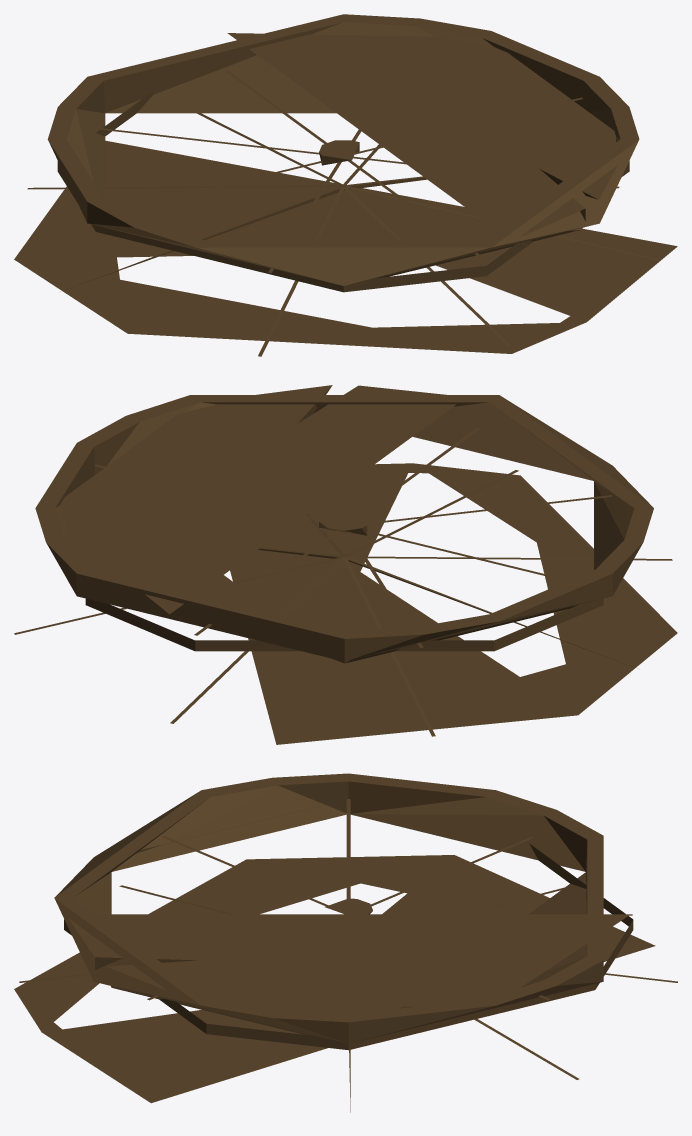
The model's file is carousel.lod2.glb.
3 views of the same model, one above another, from view 1: azimuth 30°, elevation 25°; view 2: azimuth 150°, elevation 25°; view 3: azimuth 270°, elevation 25° (orthographic). The views are drawn at different scales.
Visible parts, largest first — view 1: carousel_002_02 - Default_0; view 2: carousel_002_02 - Default_0; view 3: carousel_002_02 - Default_0.
Boxes of the visible parts, left/top/right/bottom form: carousel_002_02 - Default_0: left=14, top=14, right=677, bottom=356; carousel_002_02 - Default_0: left=14, top=385, right=677, bottom=744; carousel_002_02 - Default_0: left=14, top=773, right=677, bottom=1112.
Bounding box in the file's own units: 4.3 × 0.6564 × 4.33.
